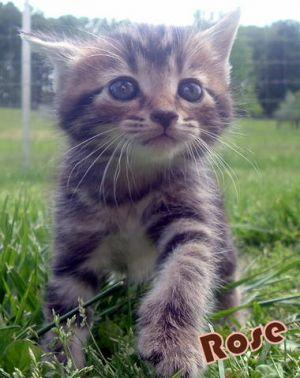bengal: (17, 9, 256, 181)
